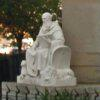Statue: (18, 6, 75, 97)
